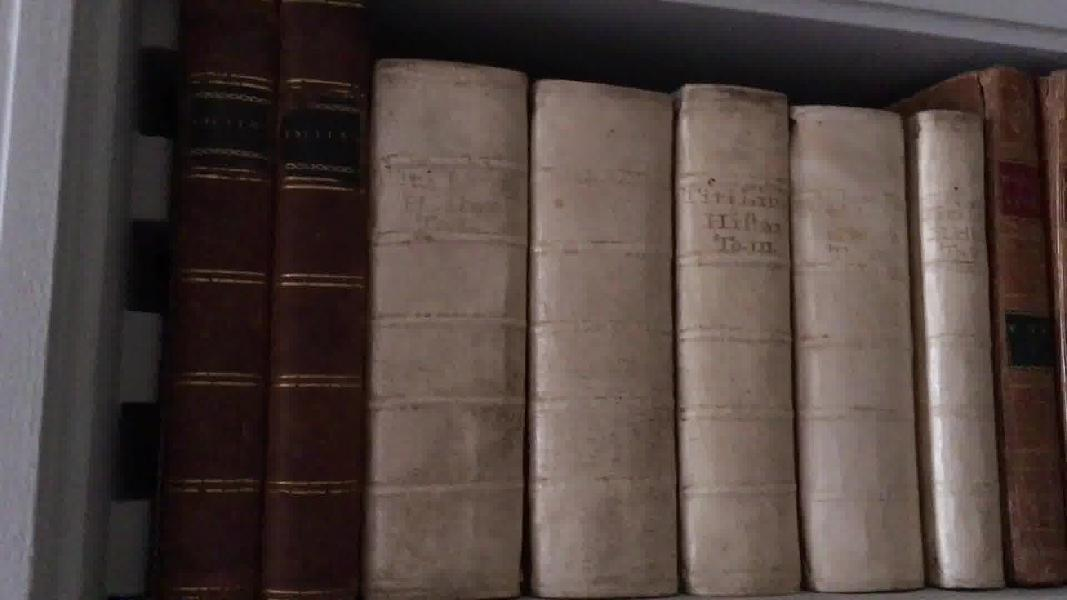Kk4-1_2: (146, 1, 383, 597)
Kk4-3_7: (342, 40, 1002, 600)
